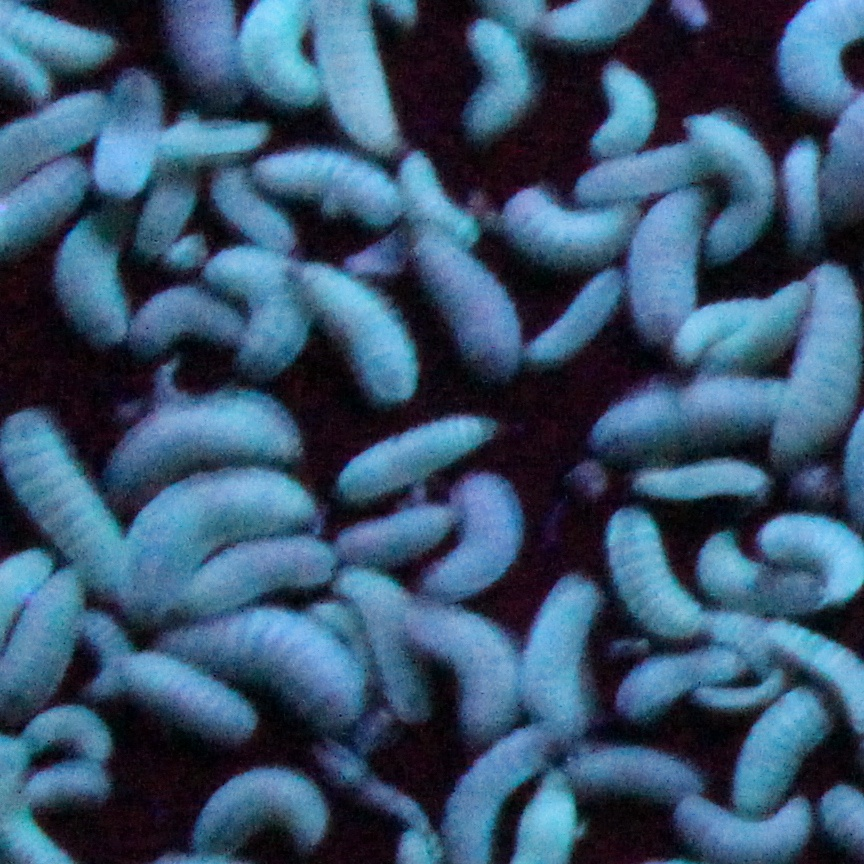larve: (3, 416, 130, 590), (411, 230, 524, 376), (299, 262, 413, 406), (587, 378, 780, 458), (224, 617, 361, 725), (191, 766, 335, 856), (525, 575, 605, 735), (126, 395, 290, 468), (730, 691, 840, 797), (433, 609, 522, 740), (783, 274, 847, 455), (135, 656, 263, 746), (349, 417, 492, 497), (350, 575, 427, 723), (604, 511, 692, 636), (191, 537, 327, 616), (426, 486, 522, 597), (213, 250, 294, 378), (632, 189, 701, 338), (694, 117, 767, 257), (6, 576, 81, 707), (131, 484, 314, 537), (257, 152, 392, 223), (509, 190, 626, 271), (712, 282, 812, 374), (701, 537, 817, 615), (673, 794, 806, 860), (619, 647, 736, 722), (58, 220, 125, 343), (764, 517, 864, 597), (534, 278, 620, 365), (327, 508, 451, 564), (564, 756, 704, 800), (632, 463, 776, 505), (468, 32, 525, 137), (15, 705, 112, 766), (206, 175, 287, 244), (104, 83, 155, 191), (398, 161, 469, 236), (775, 142, 822, 255), (674, 300, 746, 362), (141, 178, 195, 257), (601, 68, 652, 151), (28, 764, 106, 817), (571, 160, 696, 192), (140, 293, 219, 343), (88, 611, 130, 699), (157, 124, 262, 156)
